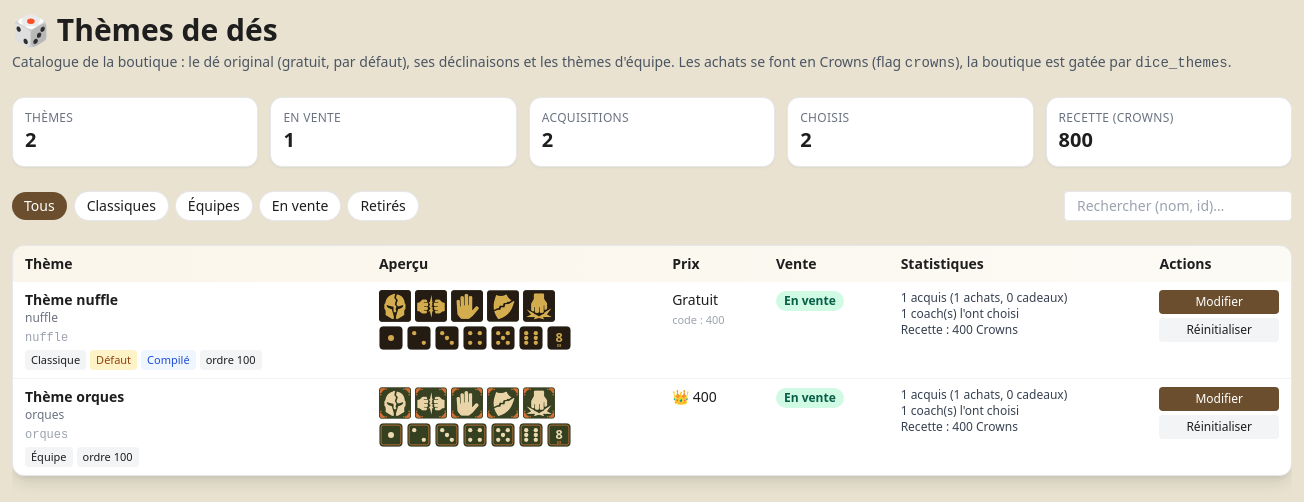
Test: AdminDiceThemesPage › filtre « Classiques »
expect the row with test id "admin-dice-theme-orques" is shown: met, box [13,378,1291,475]
Click the button with test id "admin-dice-filter-classic". click: (121, 206)
box: [75,192,168,220]
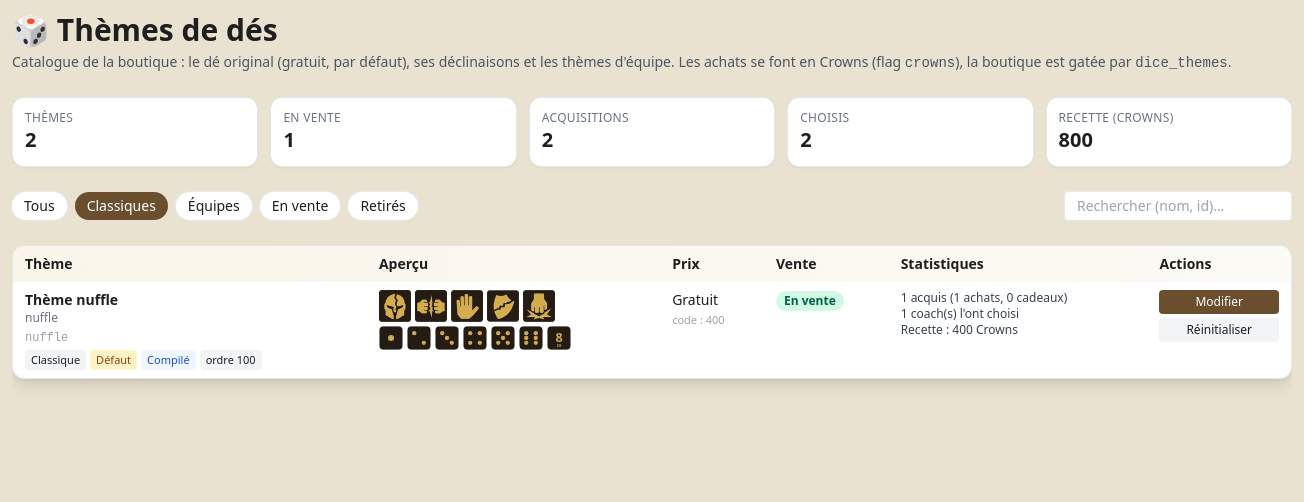
expect the row with test id "admin-dice-theme-nuffle" is shown: met, box [13,282,1291,378]
expect the row with test id "admin-dice-theme-orques" is gone: met
